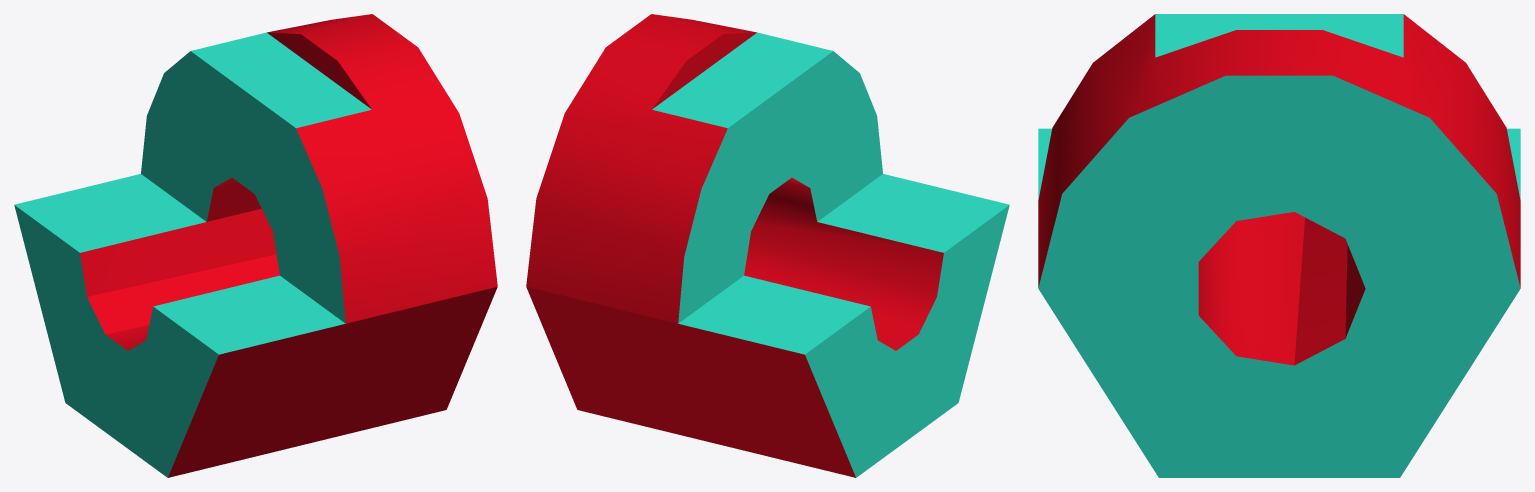
Rendered from tut3qn1a.gltf.
3 views of the same model, side by side, from view 1: azimuth 30°, elevation 25°; view 2: azimuth 150°, elevation 25°; view 3: azimuth 270°, elevation 25° (orthographic). The views are drawn at different scales.
Visible parts, largest first — view 1: tut3qn1a(new); view 2: tut3qn1a(new); view 3: tut3qn1a(new).
Boxes of the visible parts, x1=… form: tut3qn1a(new): x1=14, y1=14, x2=497, y2=477; tut3qn1a(new): x1=526, y1=14, x2=1009, y2=477; tut3qn1a(new): x1=1038, y1=14, x2=1520, y2=477.
Size of the model in its own units: 5.5 by 6.47 by 7.
